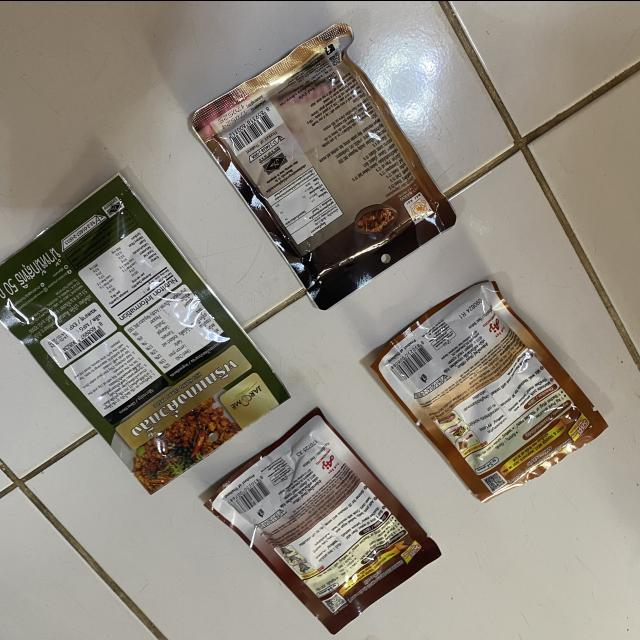plastik: (0, 174, 288, 493), (191, 23, 456, 308), (205, 408, 441, 633), (373, 280, 607, 500)
